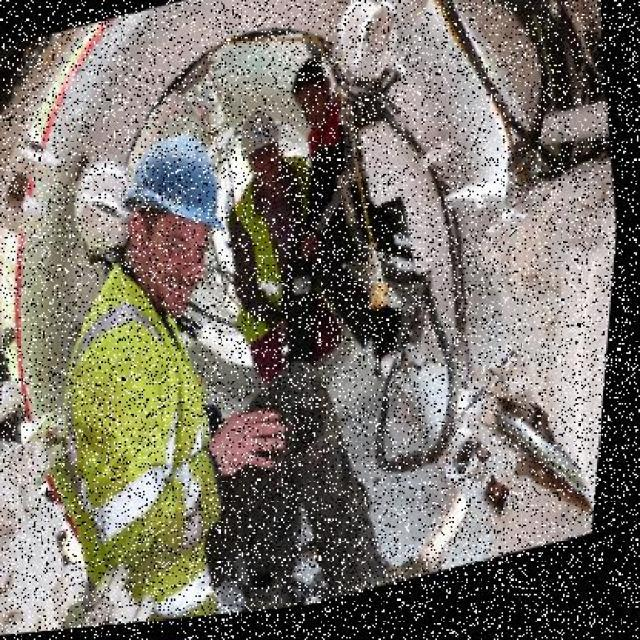helmet: (114, 129, 239, 263), (231, 105, 293, 175)
vest: (37, 266, 233, 620)
